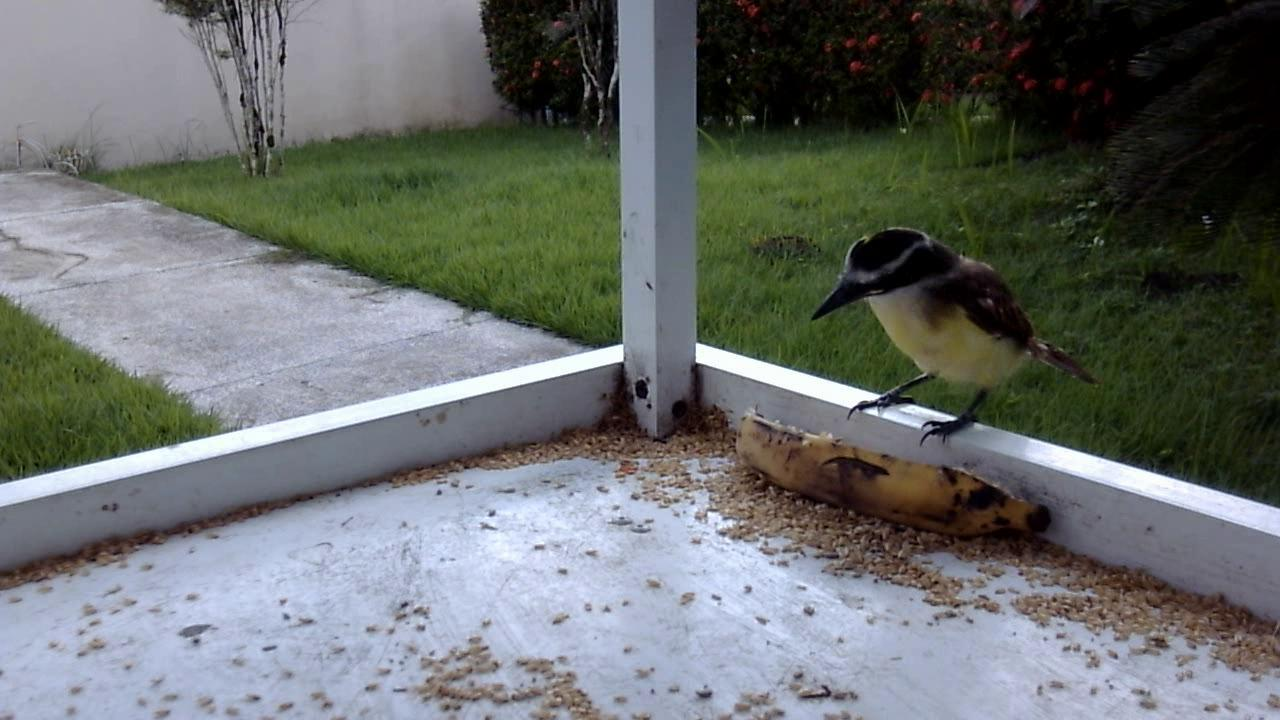bem_te_vi: (800, 214, 1100, 460)
